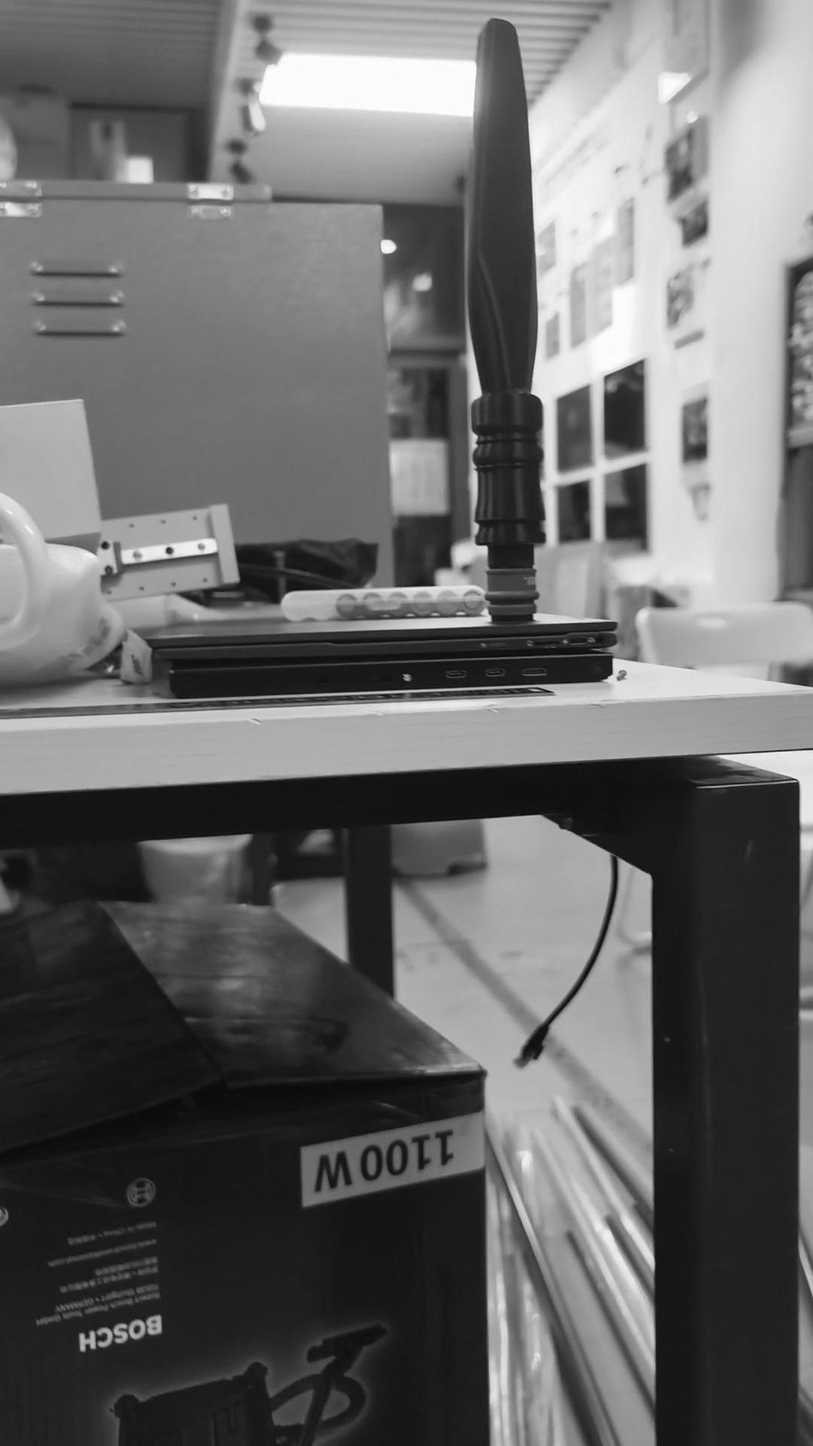base: (477, 555, 543, 649)
